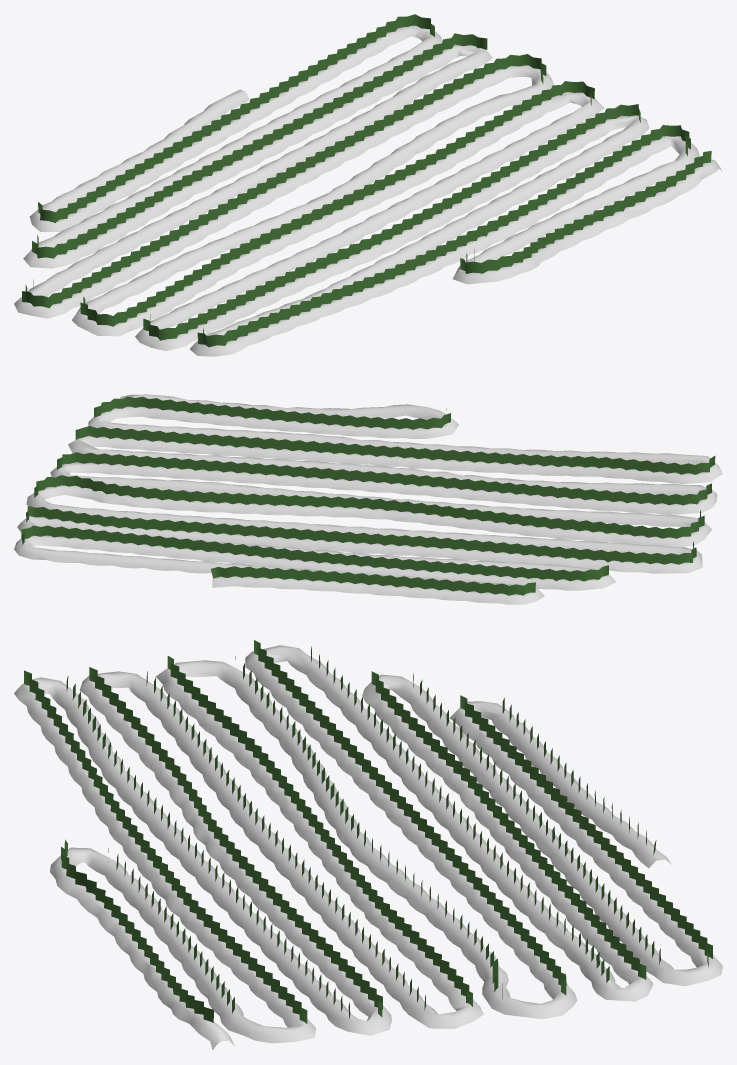
File: chunk.glb
3 renders of one model, top to bottom at view 1: azimuth 30°, elevation 25°; view 2: azimuth 150°, elevation 25°; view 3: azimuth 270°, elevation 25°, orthographic. The views are drawn at different scales.
Parts seen in each view (by area): view 1: soil1-col, Plane; view 2: soil1-col, Plane; view 3: soil1-col, Plane.
Part boxes in pixels (bbox=[...]): soil1-col: bbox=[14, 25, 722, 356]; Plane: bbox=[22, 14, 711, 347]; soil1-col: bbox=[14, 394, 722, 604]; Plane: bbox=[21, 396, 715, 595]; soil1-col: bbox=[14, 645, 722, 1050]; Plane: bbox=[24, 640, 712, 1023].
Bounding box in the file's own units: 124 × 6.37 × 94.23.
